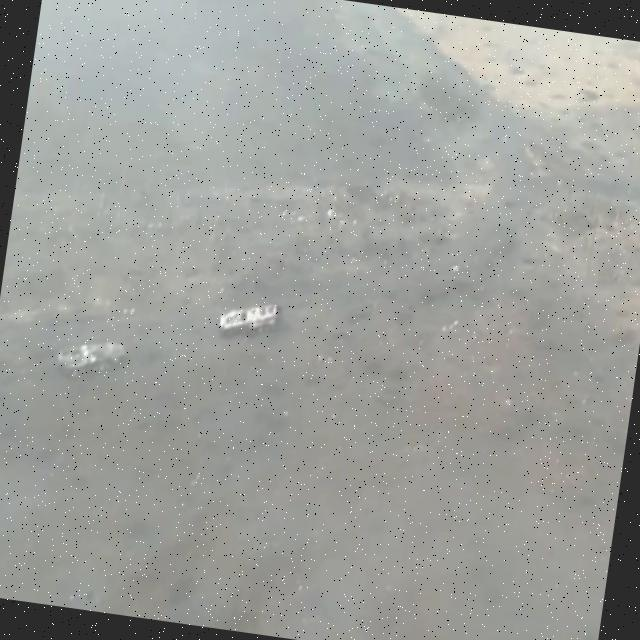AIFV: (59, 334, 129, 387)
Destroyed: (219, 300, 282, 342)
